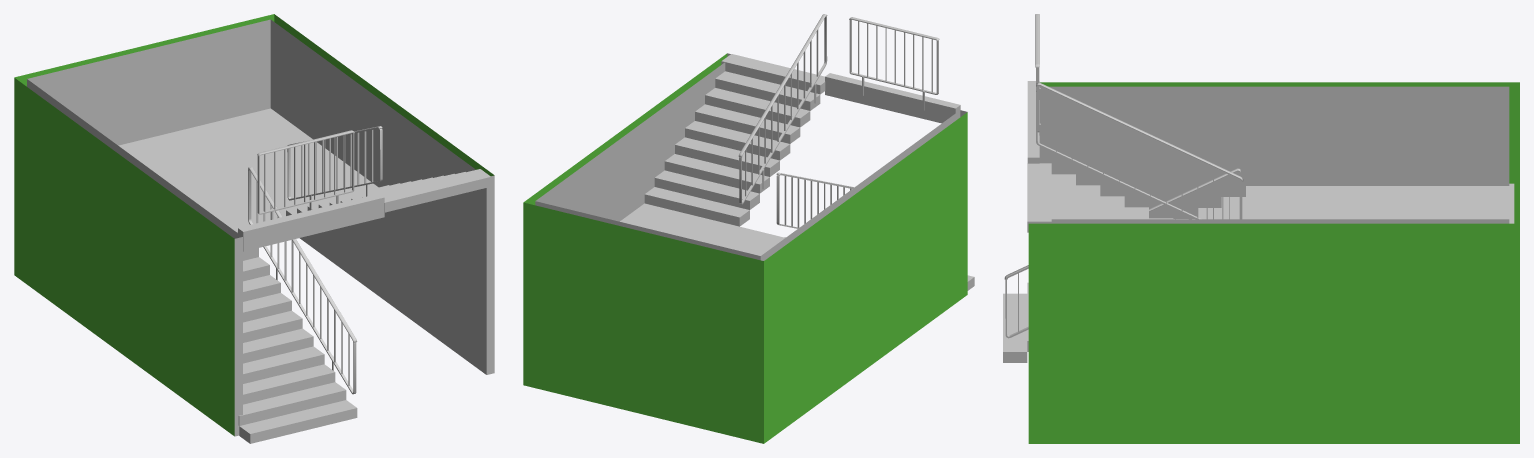
Rendered from Stairs.fbx.
The picture shows the model from 3 angles, left to right: view 1: azimuth 30°, elevation 25°; view 2: azimuth 150°, elevation 25°; view 3: azimuth 270°, elevation 25°; orthographic projection. The views are drawn at different scales.
Parts seen in each view (by area): view 1: Cube.044, Stairs.002, Cube.040, Cube.043, Cube.052, Stairs.001, Cube.053, Cube.059, Stairs.004, Cube.055, Cube.060, Stairs.003 (+10 smaller); view 2: Cube.046, Cube.045, Stairs.003, Cube.044, Cube.043, Cube.040, Stairs.004, Cube.053, Stairs.002, Cube.055, Cube.052, Cube.060 (+7 smaller); view 3: Cube.047, Cube.050, Cube.049, Cube.062, Cube.061, Cube.063, Stairs.002, Stairs.004, Stairs.003, Stairs.001, Cube.044, Cube.053 (+4 smaller).
Part boxes in pixels (<box>): Cube.044: <box>14,78,89,329</box>; Stairs.002: <box>118,108,378,232</box>; Cube.040: <box>162,186,234,436</box>; Cube.043: <box>89,133,161,382</box>; Cube.052: <box>414,124,486,374</box>; Stairs.001: <box>238,248,357,443</box>; Cube.053: <box>341,71,413,321</box>; Cube.059: <box>149,19,270,137</box>; Stairs.004: <box>238,126,384,394</box>; Cube.055: <box>270,19,341,268</box>; Cube.060: <box>27,49,148,145</box>; Stairs.003: <box>286,169,491,215</box>; Cube.046: <box>523,202,643,414</box>; Cube.045: <box>643,232,763,443</box>; Stairs.003: <box>644,54,825,226</box>; Cube.044: <box>764,210,833,443</box>; Cube.043: <box>833,161,900,392</box>; Cube.040: <box>900,112,967,343</box>; Stairs.004: <box>738,14,960,228</box>; Cube.053: <box>600,104,667,221</box>; Stairs.002: <box>620,203,785,255</box>; Cube.055: <box>535,154,600,216</box>; Cube.052: <box>667,62,725,158</box>; Cube.060: <box>648,228,760,260</box>; Cube.047: <box>1352,223,1519,443</box>; Cube.050: <box>1028,223,1190,443</box>; Cube.049: <box>1190,223,1352,443</box>; Cube.062: <box>1190,86,1352,218</box>; Cube.061: <box>1352,86,1509,185</box>; Cube.063: <box>1039,86,1190,218</box>; Stairs.002: <box>1246,183,1514,223</box>; Stairs.004: <box>1004,14,1243,338</box>; Stairs.003: <box>1027,163,1173,232</box>; Stairs.001: <box>1003,197,1245,362</box>; Cube.044: <box>1352,82,1519,223</box>; Cube.053: <box>1190,219,1352,223</box>.
Size of the model in its own units: 4.13 by 4.14 by 6.38.
